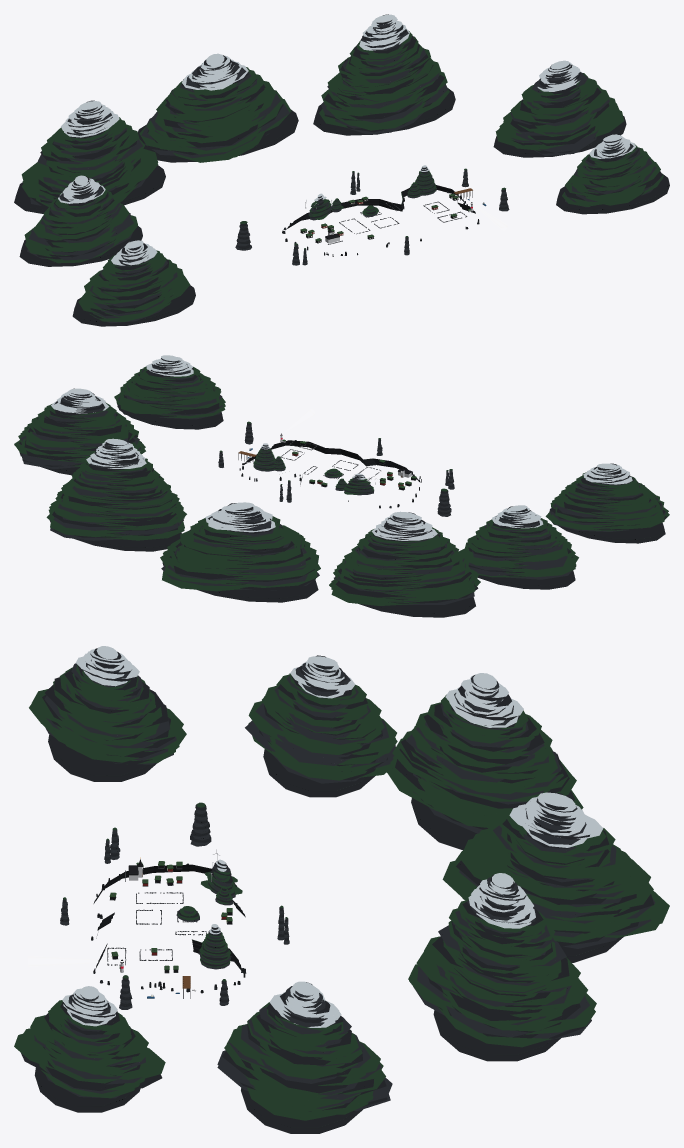
The model's file is by_faero.glb.
3 renders of one model, top to bottom at view 1: azimuth 30°, elevation 25°; view 2: azimuth 150°, elevation 25°; view 3: azimuth 270°, elevation 25°, orthographic. The views are drawn at different scales.
Parts seen in each view (by area): view 1: Fjerne øer_net, Fjeldene_net, Skær_net, Klipperne_net, Bygderne_net; view 2: Fjerne øer_net, Fjeldene_net, Klipperne_net, Skær_net, Bygderne_net; view 3: Fjerne øer_net, Fjeldene_net, Skær_net, Klipperne_net, Bygderne_net.
Boxes of the visible parts, box(x1,y1,x2,y2) form: Fjerne øer_net: box(14, 14, 669, 326); Fjeldene_net: box(308, 165, 436, 220); Skær_net: box(235, 168, 509, 265); Klipperne_net: box(282, 185, 479, 256); Bygderne_net: box(300, 193, 467, 243); Fjerne øer_net: box(14, 355, 669, 617); Fjeldene_net: box(253, 443, 374, 495); Klipperne_net: box(239, 440, 421, 508); Skær_net: box(218, 421, 454, 516); Bygderne_net: box(281, 440, 416, 490); Fjerne øer_net: box(14, 646, 669, 1133); Fjeldene_net: box(176, 859, 242, 969); Skær_net: box(60, 802, 289, 1009); Klipperne_net: box(91, 863, 246, 993); Bygderne_net: box(107, 861, 232, 973).
Size of the model in its own units: 285 by 41.53 by 183.
